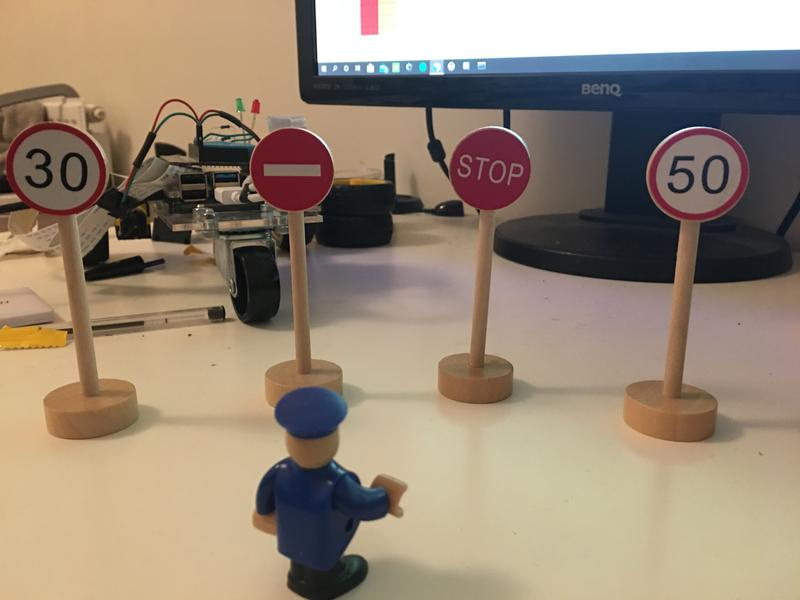Traffic_Sign_30: (8, 125, 106, 214)
Traffic_Sign_50: (647, 133, 748, 219)
Traffic_Sign_No_Entry: (251, 129, 333, 208)
Traffic_Sign_Stop: (449, 126, 533, 211)
person: (249, 387, 413, 600)
